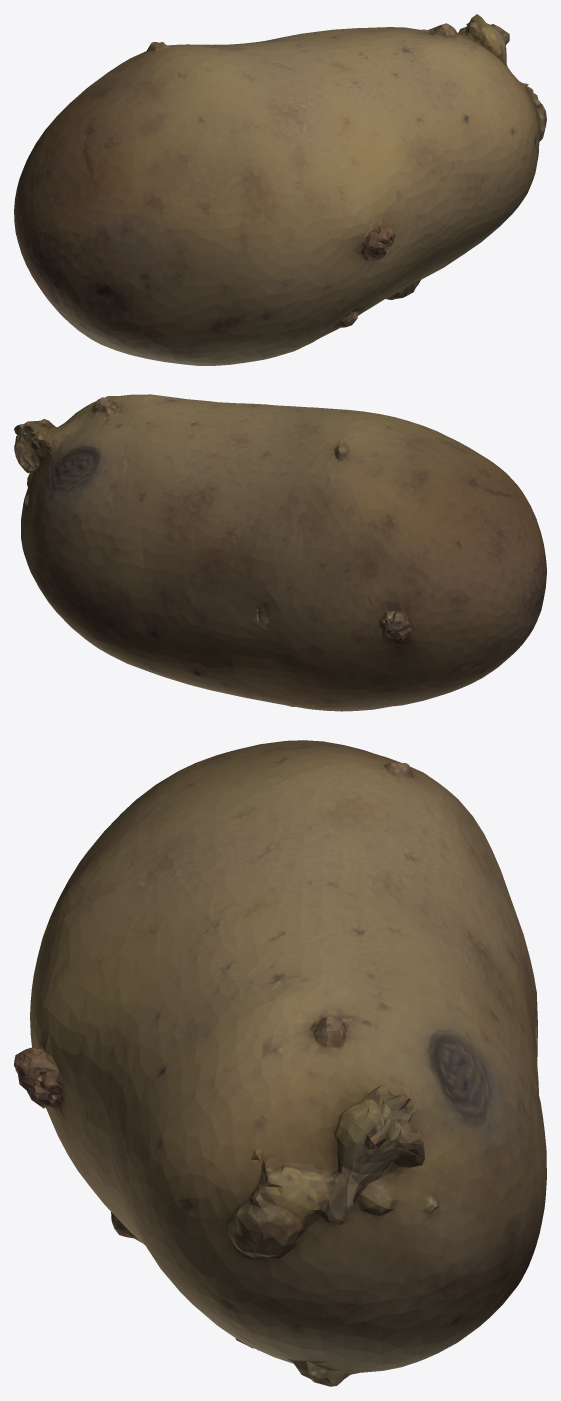
The model's file is sample(5).glb.
3 views of the same model, one above another, from view 1: azimuth 30°, elevation 25°; view 2: azimuth 150°, elevation 25°; view 3: azimuth 270°, elevation 25° (orthographic). The views are drawn at different scales.
Visible parts, largest first — view 1: world; view 2: world; view 3: world.
Boxes of the visible parts, x1=… form: world: x1=14, y1=14, x2=546, y2=365; world: x1=14, y1=394, x2=546, y2=711; world: x1=14, y1=740, x2=546, y2=1386.
Bounding box in the file's own units: 0.7364 × 0.4058 × 0.4221.
1 material, 1 textured.
